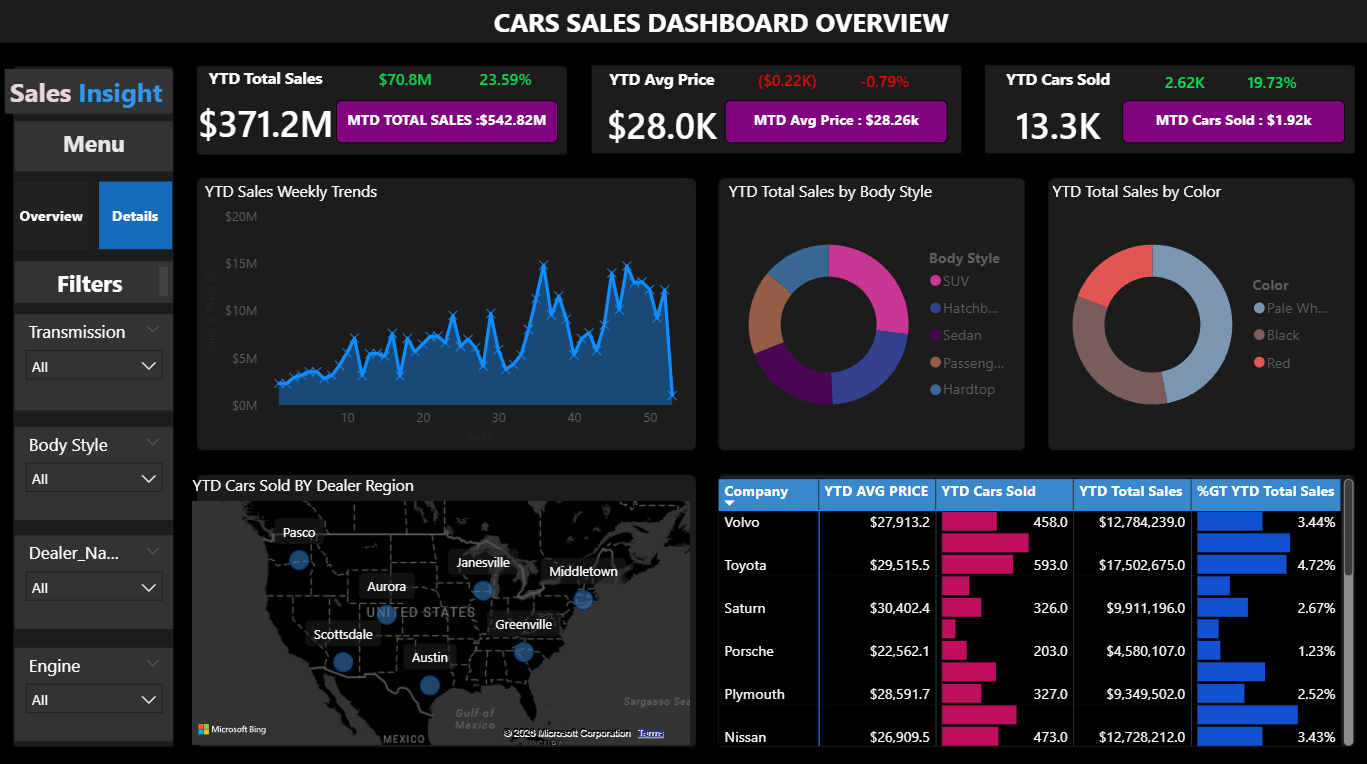

The page's visual inventory and layout, read from the dashboard file:
{"tool":"powerbi","page":{"name":"Overview","canvas":[1280,720],"ordinal":0},"visuals":[{"type":"card","title":"YTD Total Sales","fields":{"Values":["car_data.YTD Total Sales"]},"box":[179.1,62.6,143.6,87.1],"z":0},{"type":"card","fields":{"Values":["car_data.Sales Difference"]},"box":[335.2,62,91.7,30.6],"z":1000},{"type":"card","fields":{"Values":["car_data.YOY Sales Growth"]},"box":[427,62,95,31],"z":2000},{"type":"card","fields":{"Values":["car_data.MTD KPI"]},"box":[316.4,94.5,206.4,40],"z":3000},{"type":"card","title":"YTD Avg Price ","fields":{"Values":["car_data.YTD AVG PRICE"]},"box":[547.3,63.6,143.6,87.3],"z":4000},{"type":"card","fields":{"Values":["car_data.Avg Price Diff"]},"box":[691.1,62.2,91.1,30],"z":5000},{"type":"card","fields":{"Values":["car_data.YOY Avg Price Growth"]},"box":[781.8,63.6,90.9,30],"z":6000},{"type":"card","fields":{"Values":["car_data.MTD Avg Price KPI"]},"box":[678.2,94.5,207.3,40],"z":7000},{"type":"card","title":"YTD Cars  Sold","fields":{"Values":["car_data.YTD Cars Sold"]},"box":[916.4,63.6,143.6,87.3],"z":8000},{"type":"card","fields":{"Values":["car_data.Cars Sold Diff"]},"box":[1060,64.5,90.9,30],"z":9000},{"type":"card","fields":{"Values":["car_data.YOY Car Sold Growth"]},"box":[1141.8,64.5,90.9,30],"z":10000},{"type":"card","fields":{"Values":["car_data.MTD Cars Sold KPI"]},"box":[1047.3,94.5,207.3,40],"z":11000},{"type":"areaChart","title":"YTD Sales Weekly Trends","fields":{"Category":["calendar table.week"],"Y":["Sum(car_data.Price ($))"]},"box":[189.1,169.1,461.8,249.1],"z":12000},{"type":"donutChart","fields":{"Category":["car_data.Body Style"],"Y":["car_data.YTD Total Sales"]},"box":[677,169,276,249],"z":13000},{"type":"donutChart","fields":{"Category":["car_data.Color"],"Y":["car_data.YTD Total Sales"]},"box":[978,169,276,249],"z":14000},{"type":"map","title":"YTD Cars Sold BY Dealer Region","fields":{"Category":["car_data.Dealer_Region"]},"box":[178.1,441.9,473.1,257.1],"z":15000},{"type":"textbox","box":[371.4,0,607.1,60],"z":16000},{"type":"slicer","fields":{"Values":["car_data.Body Style"]},"box":[17.2,397.5,147.2,87.1],"z":17000},{"type":"slicer","fields":{"Values":["car_data.Dealer_Name"]},"box":[17.2,499.4,147.2,87.1],"z":18000},{"type":"slicer","fields":{"Values":["car_data.Transmission"]},"box":[17.2,293.3,147.2,89.6],"z":19000},{"type":"slicer","fields":{"Values":["car_data.Engine"]},"box":[17.2,603.7,147.2,87.1],"z":20000},{"type":"textbox","box":[17.2,244.2,147.2,38],"z":21000},{"type":"textbox","box":[8.6,65,155.8,41.7],"z":22000},{"type":"pageNavigator","box":[17.2,169.3,147.2,63.8],"z":23000},{"type":"textbox","box":[17.2,114.1,147.2,46.6],"z":24000},{"type":"pivotTable","title":"Company Wise Salary","fields":{"Rows":["car_data.Company"],"Values":["car_data.YTD AVG PRICE","car_data.YTD Cars Sold","car_data.YTD Total Sales","Divide(car_data.YTD Total Sales, ScopedEval(car_data.YTD Total Sales, []))"]},"box":[667.5,441.7,600,257.7],"z":25000}]}

Visuals, with their boxes on the page's 1280x720 design canvas (x1, y1, x2, y2). These are canvas units, not pixel positions in the 1367x764 screenshot, which may show the page scaled, cropped or inside an application window:
"YTD Total Sales" card: locate(179, 63, 323, 150)
card - car_data.Sales Difference: locate(335, 62, 427, 93)
card - car_data.YOY Sales Growth: locate(427, 62, 522, 93)
card - car_data.MTD KPI: locate(316, 94, 523, 134)
"YTD Avg Price " card: locate(547, 64, 691, 151)
card - car_data.Avg Price Diff: locate(691, 62, 782, 92)
card - car_data.YOY Avg Price Growth: locate(782, 64, 873, 94)
card - car_data.MTD Avg Price KPI: locate(678, 94, 886, 134)
"YTD Cars  Sold" card: locate(916, 64, 1060, 151)
card - car_data.Cars Sold Diff: locate(1060, 64, 1151, 94)
card - car_data.YOY Car Sold Growth: locate(1142, 64, 1233, 94)
card - car_data.MTD Cars Sold KPI: locate(1047, 94, 1255, 134)
"YTD Sales Weekly Trends" areaChart: locate(189, 169, 651, 418)
donutChart - car_data.Body Style x car_data.YTD Total Sales: locate(677, 169, 953, 418)
donutChart - car_data.Color x car_data.YTD Total Sales: locate(978, 169, 1254, 418)
"YTD Cars Sold BY Dealer Region" map: locate(178, 442, 651, 699)
textbox: locate(371, 0, 978, 60)
slicer - car_data.Body Style: locate(17, 398, 164, 485)
slicer - car_data.Dealer_Name: locate(17, 499, 164, 586)
slicer - car_data.Transmission: locate(17, 293, 164, 383)
slicer - car_data.Engine: locate(17, 604, 164, 691)
textbox: locate(17, 244, 164, 282)
textbox: locate(9, 65, 164, 107)
pageNavigator: locate(17, 169, 164, 233)
textbox: locate(17, 114, 164, 161)
"Company Wise Salary" pivotTable: locate(668, 442, 1268, 699)
